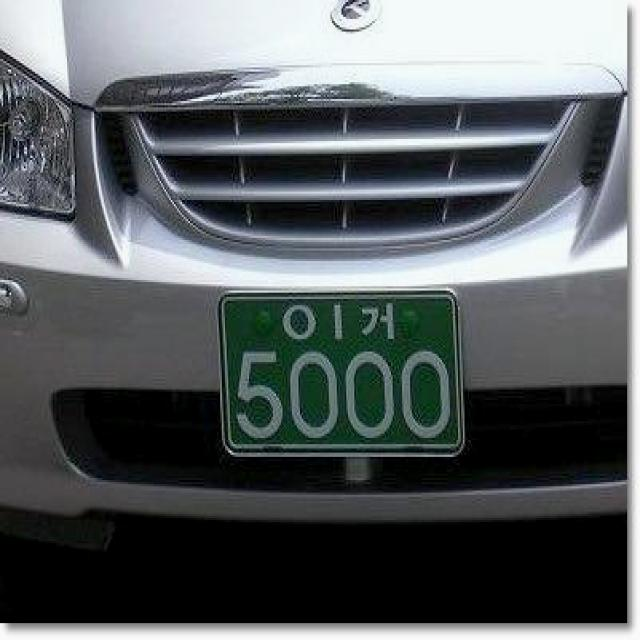illegal_plate: (210, 281, 471, 477)
